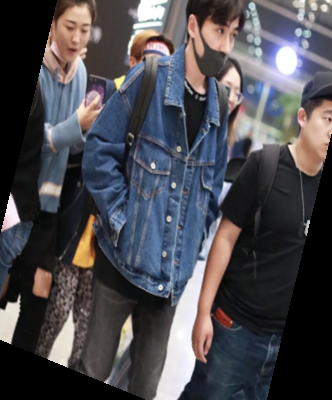mask_weared_incorrect: (171, 1, 249, 84)
